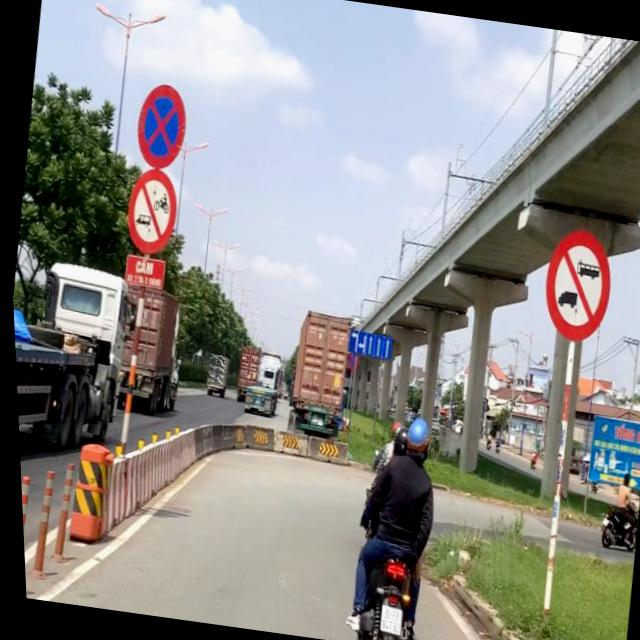Cam dung xe va do xe: (129, 80, 193, 172), (343, 350, 357, 371)
